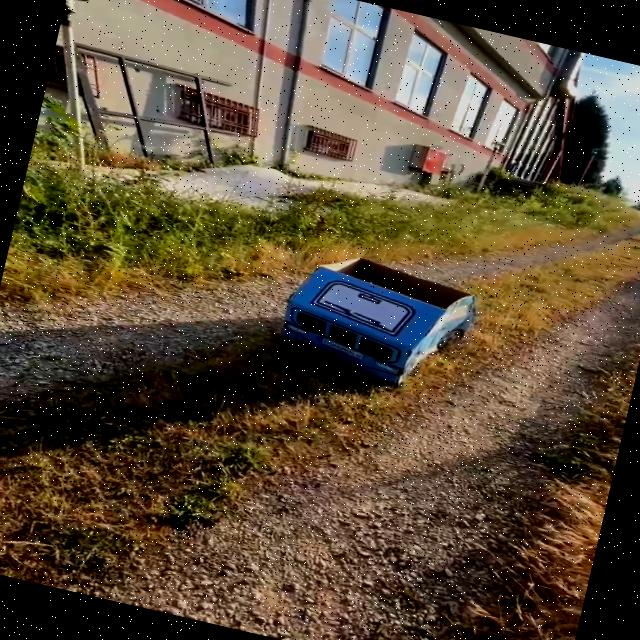blue_car: (164, 194, 567, 473)
